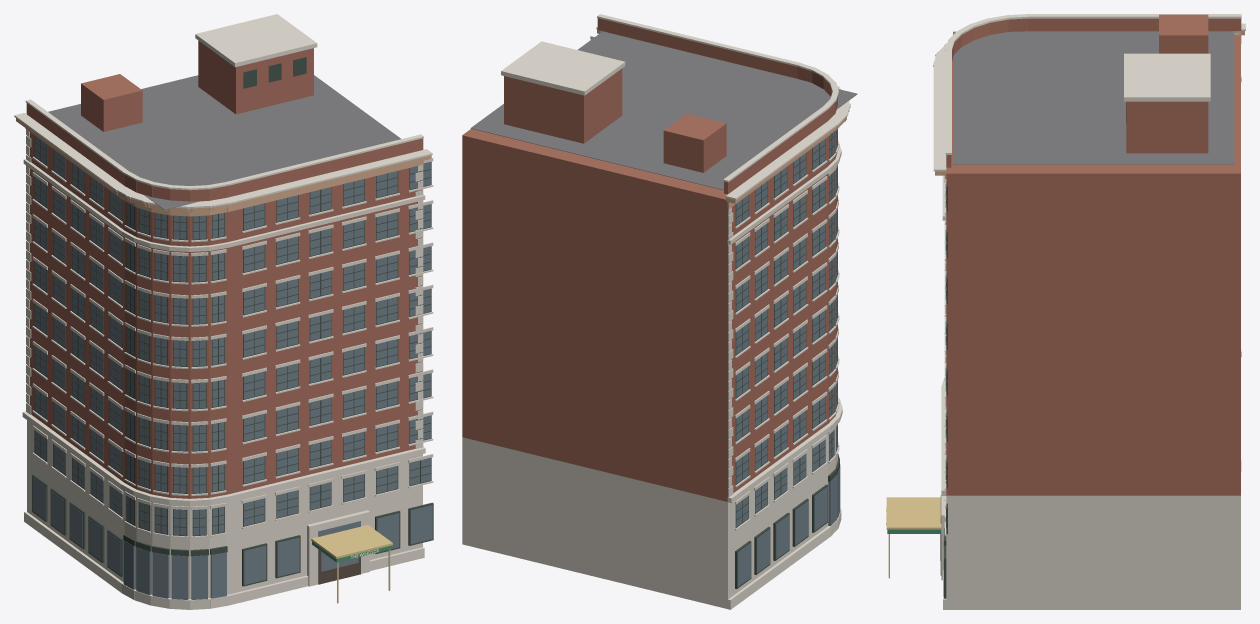
The model's file is corner_prewar.glb.
3 renders of one model, left to right at view 1: azimuth 30°, elevation 25°; view 2: azimuth 150°, elevation 25°; view 3: azimuth 270°, elevation 25°, orthographic. The views are drawn at different scales.
Parts seen in each view (by area): view 1: corner_prewar; view 2: corner_prewar; view 3: corner_prewar.
Part boxes in pixels (x1=…): corner_prewar: x1=14, y1=14, x2=433, y2=609; corner_prewar: x1=462, y1=14, x2=857, y2=609; corner_prewar: x1=886, y1=14, x2=1245, y2=609.
Bounding box in the file's own units: 21.56 × 33.7 × 21.98.
